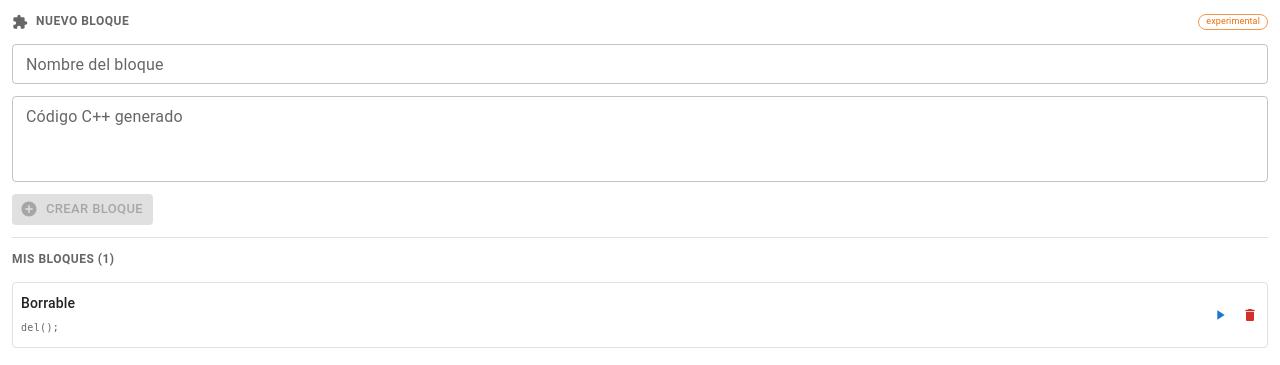
Test: CustomBlocksPanel › elimina un bloque de la lista
Click the button named "eliminar bloque" at [1250, 315], box [1237,302,1263,328]
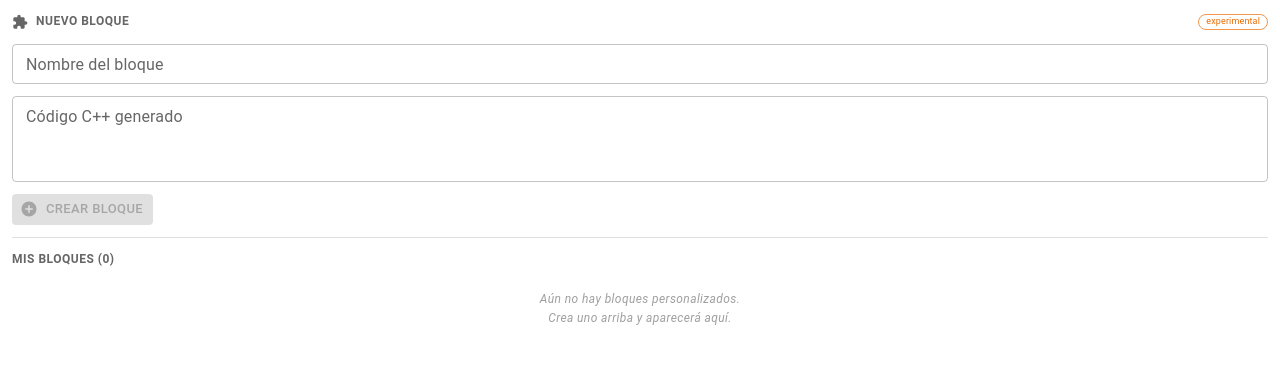
Check: the text "Borrable" is gone
